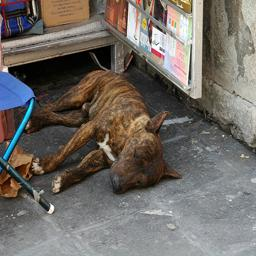chair: (1, 93, 107, 256)
dog: (70, 90, 256, 252)
